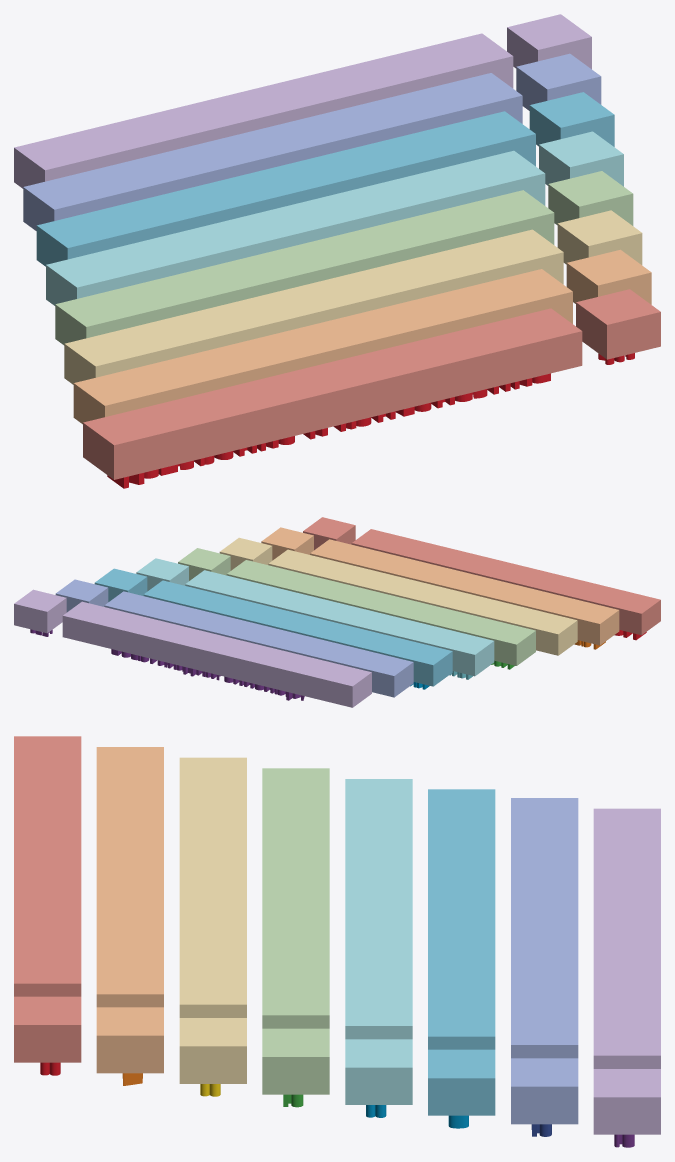
The model's file is tinker.obj.
The picture shows the model from 3 angles, top to bottom: view 1: azimuth 30°, elevation 25°; view 2: azimuth 150°, elevation 25°; view 3: azimuth 270°, elevation 25°; orthographic projection. The views are drawn at different scales.
Visible parts, largest first — view 1: group_0_15308428, group_0_8768998, group_0_16311991, group_0_16500122, group_0_13165757, group_0_13877221, group_0_11593967, group_0_11452141, group_0_15277357; view 2: group_0_13877221, group_0_16500122, group_0_11593967, group_0_11452141, group_0_16311991, group_0_15308428, group_0_13165757, group_0_8768998, group_0_8273816; view 3: group_0_8768998, group_0_13165757, group_0_15308428, group_0_11452141, group_0_13877221, group_0_16311991, group_0_16500122, group_0_11593967.
Part boxes in pixels (bbox=[...]): group_0_15308428: bbox=[83, 289, 660, 479]; group_0_8768998: bbox=[36, 92, 614, 266]; group_0_16311991: bbox=[64, 210, 642, 384]; group_0_16500122: bbox=[73, 249, 651, 424]; group_0_13165757: bbox=[55, 171, 633, 345]; group_0_13877221: bbox=[14, 14, 591, 188]; group_0_11593967: bbox=[46, 131, 623, 305]; group_0_11452141: bbox=[23, 53, 601, 230]; group_0_15277357: bbox=[107, 353, 634, 488]; group_0_13877221: bbox=[14, 589, 371, 707]; group_0_16500122: bbox=[261, 527, 619, 645]; group_0_11593967: bbox=[136, 558, 494, 676]; group_0_11452141: bbox=[55, 579, 413, 697]; group_0_16311991: bbox=[219, 537, 577, 655]; group_0_15308428: bbox=[303, 517, 660, 635]; group_0_13165757: bbox=[178, 548, 535, 665]; group_0_8768998: bbox=[94, 568, 452, 686]; group_0_8273816: bbox=[30, 629, 304, 700]; group_0_8768998: bbox=[428, 789, 495, 1115]; group_0_13165757: bbox=[262, 768, 329, 1094]; group_0_15308428: bbox=[14, 736, 81, 1062]; group_0_11452141: bbox=[511, 798, 578, 1124]; group_0_13877221: bbox=[593, 808, 660, 1134]; group_0_16311991: bbox=[179, 757, 246, 1083]; group_0_16500122: bbox=[96, 747, 163, 1073]; group_0_11593967: bbox=[345, 779, 412, 1104].
Size of the model in its own units: 180 by 19.12 by 125.
